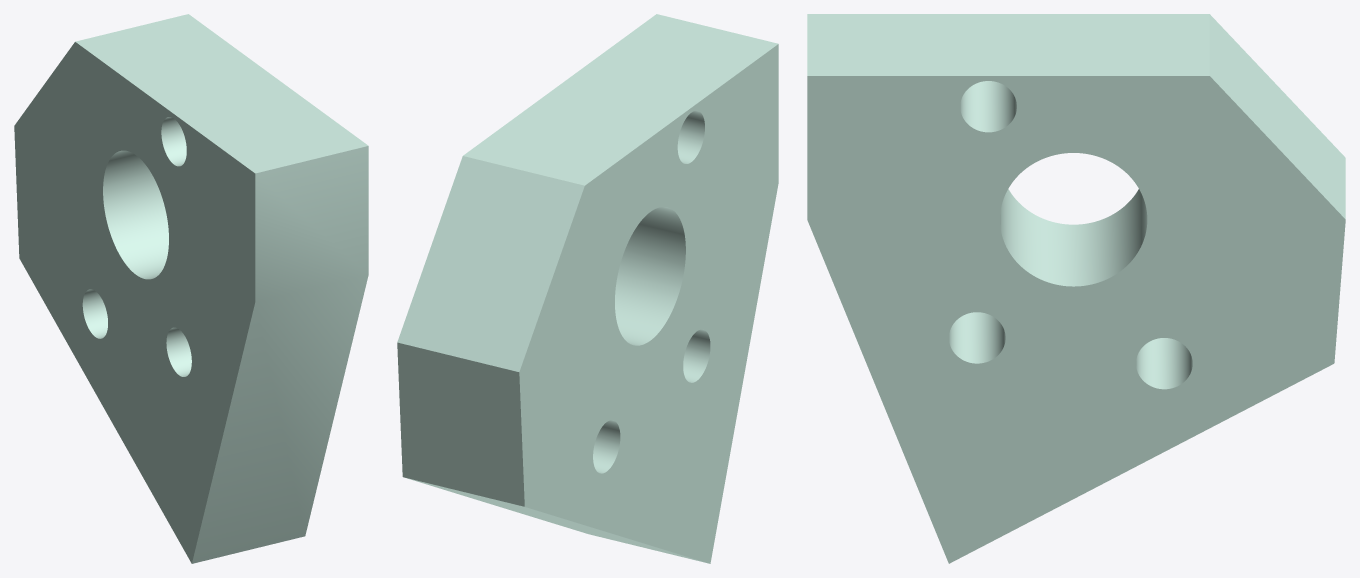
The picture shows the model from 3 angles, left to right: view 1: azimuth 30°, elevation 25°; view 2: azimuth 150°, elevation 25°; view 3: azimuth 270°, elevation 25°; orthographic projection. The views are drawn at different scales.
Parts seen in each view (by area): view 1: Renderer Node; view 2: Renderer Node; view 3: Renderer Node.
Boxes of the visible parts, x1,y1,x2,y2 form: Renderer Node: (14, 14, 368, 563); Renderer Node: (397, 14, 778, 563); Renderer Node: (807, 14, 1345, 563).
Bounding box in the file's own units: 0.1953 × 0.7188 × 0.7188.
